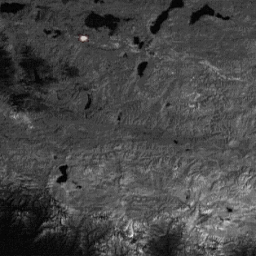Target: (78, 35, 87, 40)
